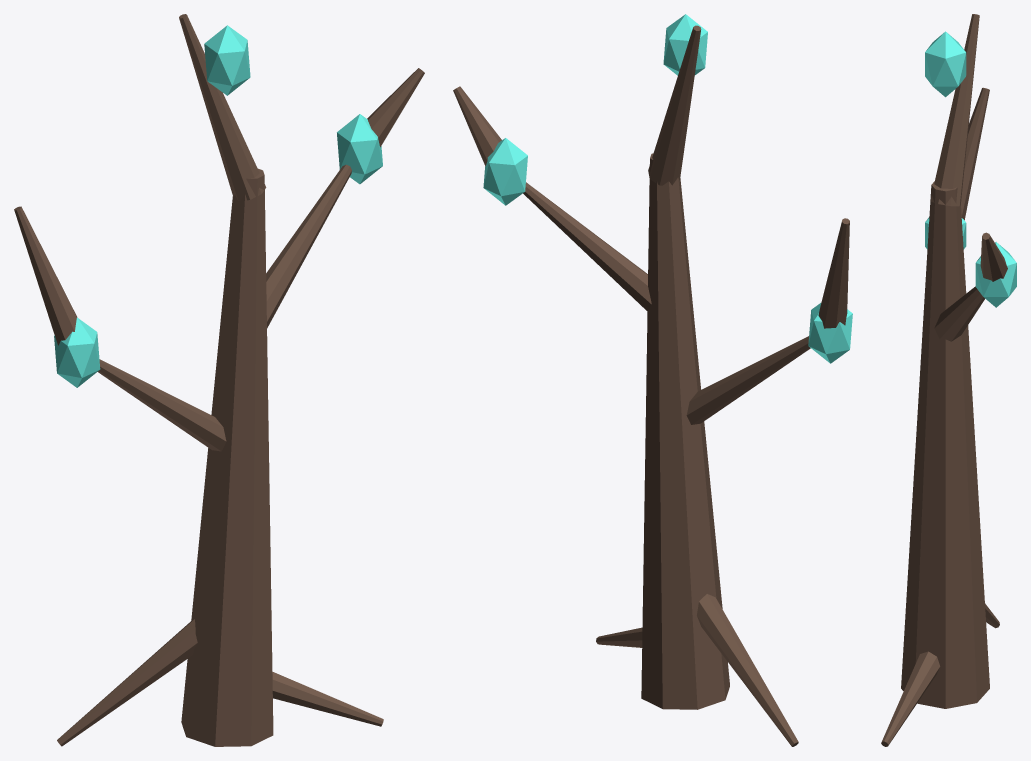
The model's file is SH10_L07_SpectralTree.fbx.
The picture shows the model from 3 angles, left to right: view 1: azimuth 30°, elevation 25°; view 2: azimuth 150°, elevation 25°; view 3: azimuth 270°, elevation 25°; orthographic projection. The views are drawn at different scales.
Visible parts, largest first — view 1: SH10_L07_SpectralTree; view 2: SH10_L07_SpectralTree; view 3: SH10_L07_SpectralTree.
Part boxes in pixels (x1=…): SH10_L07_SpectralTree: x1=14, y1=14, x2=424, y2=746; SH10_L07_SpectralTree: x1=453, y1=14, x2=852, y2=746; SH10_L07_SpectralTree: x1=881, y1=14, x2=1016, y2=746.
Bounding box in the file's own units: 218 × 362 × 67.02.
